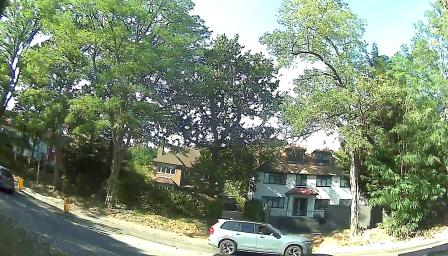Cars: (210, 211, 310, 251), (3, 166, 19, 198)
